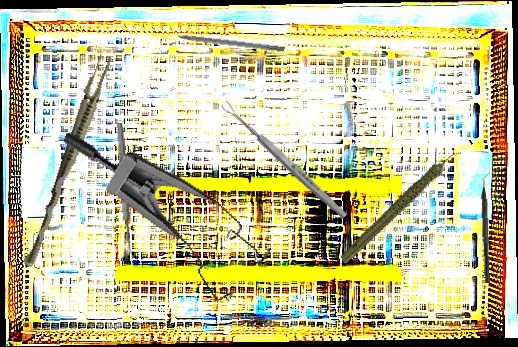Chopper: (479, 171, 498, 284)
Handpiece: (323, 148, 481, 266)
Hook Surgical: (164, 30, 285, 53)
Speculum: (30, 128, 287, 313)
Surgical Spoon: (220, 99, 349, 221), (115, 122, 134, 260)
Tissue Forceps: (22, 51, 114, 271)
